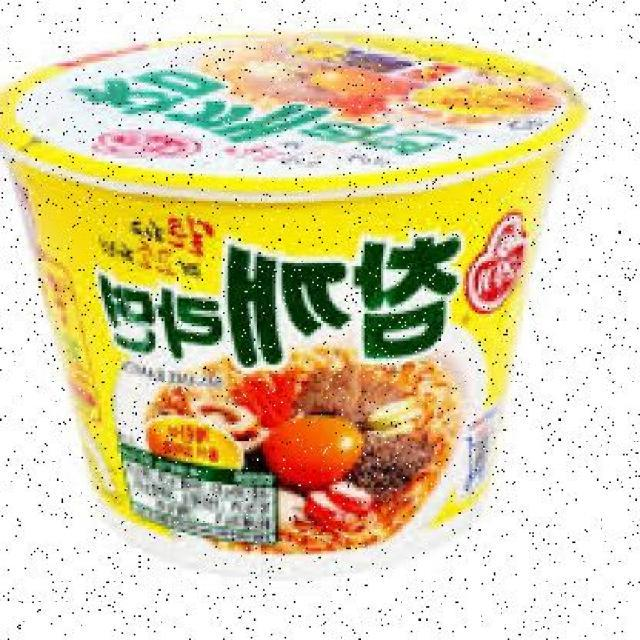Miscellaneous: (0, 25, 586, 564)
